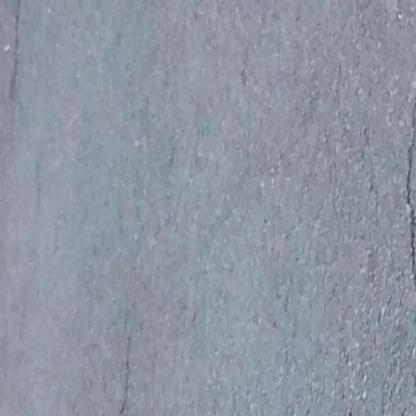Cracks: (393, 117, 416, 305), (109, 306, 141, 416), (9, 1, 25, 101)
